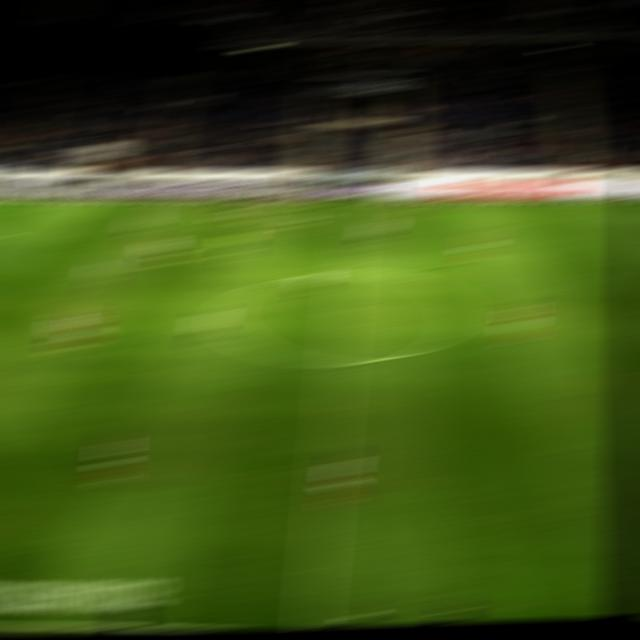bigarea_top_inner: (0, 229, 14, 239)
halfcircle_bottom: (321, 355, 352, 370)
halfcircle_top: (331, 266, 361, 280)
midline_bottom_intersection: (295, 624, 326, 627)
midline_top_intersection: (337, 198, 368, 212)
